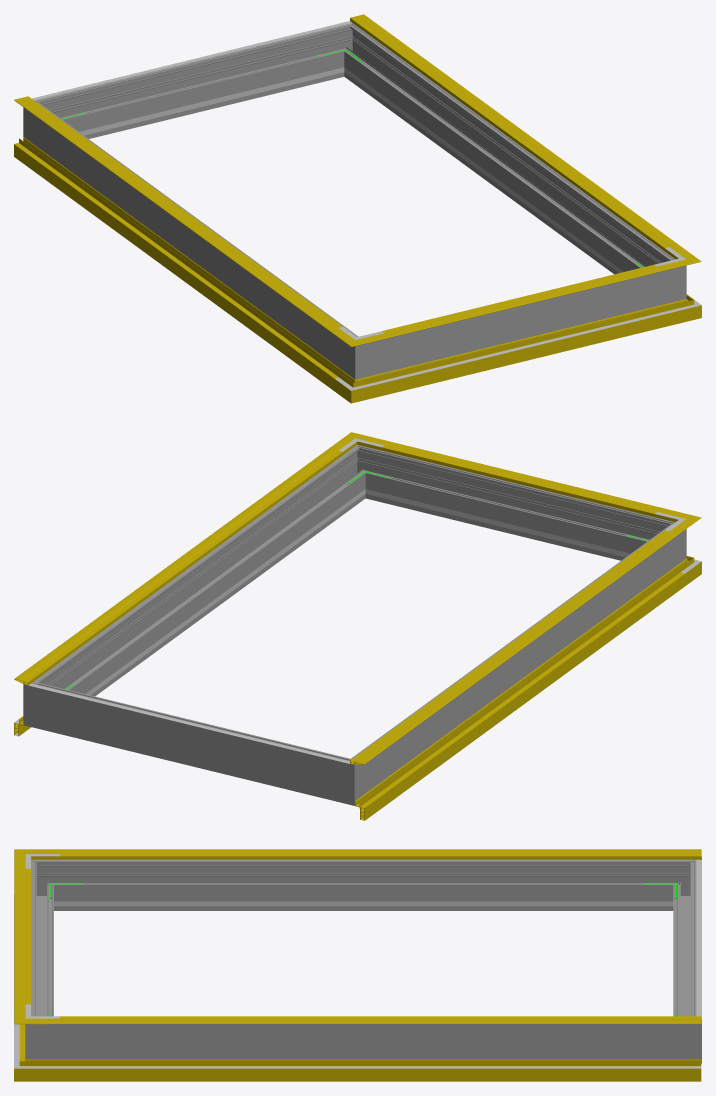
3 views of the same model, one above another, from view 1: azimuth 30°, elevation 25°; view 2: azimuth 150°, elevation 25°; view 3: azimuth 270°, elevation 25° (orthographic).
Visible parts, largest first — view 1: 3DGeom-297, 3DGeom-276, 3DGeom-268, 3DGeom-298, 3DGeom-85, 3DGeom-90, 3DGeom-145, 3DGeom-147, 3DGeom-141, 3DGeom-105, 3DGeom-154, 3DGeom-152 (+11 smaller); view 2: 3DGeom-297, 3DGeom-298, 3DGeom-276, 3DGeom-268, 3DGeom-85, 3DGeom-145, 3DGeom-147, 3DGeom-141, 3DGeom-278, 3DGeom-105, 3DGeom-154, 3DGeom-152 (+7 smaller); view 3: 3DGeom-268, 3DGeom-297, 3DGeom-97, 3DGeom-147, 3DGeom-145, 3DGeom-232, 3DGeom-276, 3DGeom-298, 3DGeom-98, 3DGeom-152, 3DGeom-154, 3DGeom-141 (+7 smaller).
Boxes of the visible parts, bbox=[...] form: 3DGeom-297: bbox=[347, 33, 664, 274]; 3DGeom-276: bbox=[55, 29, 339, 138]; 3DGeom-268: bbox=[40, 110, 347, 366]; 3DGeom-298: bbox=[384, 272, 657, 372]; 3DGeom-85: bbox=[14, 137, 343, 390]; 3DGeom-90: bbox=[375, 304, 672, 396]; 3DGeom-145: bbox=[350, 14, 683, 254]; 3DGeom-147: bbox=[14, 97, 343, 334]; 3DGeom-141: bbox=[375, 264, 672, 339]; 3DGeom-105: bbox=[14, 143, 338, 378]; 3DGeom-154: bbox=[24, 96, 342, 327]; 3DGeom-152: bbox=[350, 16, 668, 247]; 3DGeom-297: bbox=[45, 455, 362, 696]; 3DGeom-298: bbox=[370, 451, 654, 560]; 3DGeom-276: bbox=[52, 687, 330, 798]; 3DGeom-268: bbox=[362, 532, 669, 788]; 3DGeom-85: bbox=[355, 566, 684, 820]; 3DGeom-145: bbox=[14, 444, 348, 685]; 3DGeom-147: bbox=[350, 527, 684, 764]; 3DGeom-141: bbox=[372, 439, 671, 519]; 3DGeom-278: bbox=[325, 750, 371, 805]; 3DGeom-105: bbox=[360, 572, 684, 808]; 3DGeom-154: bbox=[350, 530, 668, 761]; 3DGeom-152: bbox=[24, 450, 342, 682]; 3DGeom-268: bbox=[60, 859, 667, 910]; 3DGeom-297: bbox=[60, 1024, 667, 1058]; 3DGeom-97: bbox=[48, 1059, 701, 1081]; 3DGeom-147: bbox=[48, 849, 701, 859]; 3DGeom-145: bbox=[48, 1018, 701, 1023]; 3DGeom-232: bbox=[87, 901, 639, 906]; 3DGeom-276: bbox=[673, 872, 696, 1016]; 3DGeom-298: bbox=[31, 872, 53, 1016]; 3DGeom-98: bbox=[48, 1066, 701, 1068]; 3DGeom-152: bbox=[60, 1016, 701, 1018]; 3DGeom-154: bbox=[60, 854, 701, 856]; 3DGeom-141: bbox=[14, 864, 31, 1008].
Bounding box in the file's own units: 1.83 × 0.2829 × 3.05.
